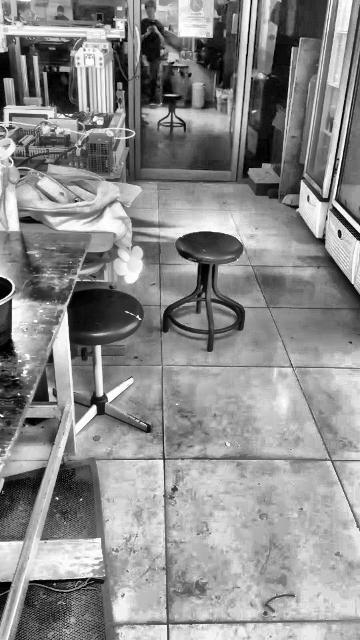pot: (0, 276, 15, 350)
